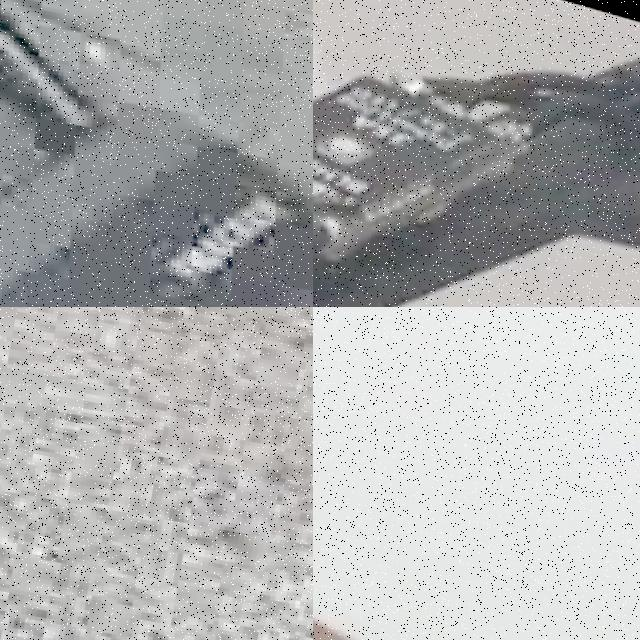0: (0, 0, 313, 307)
drone: (313, 0, 640, 307)
